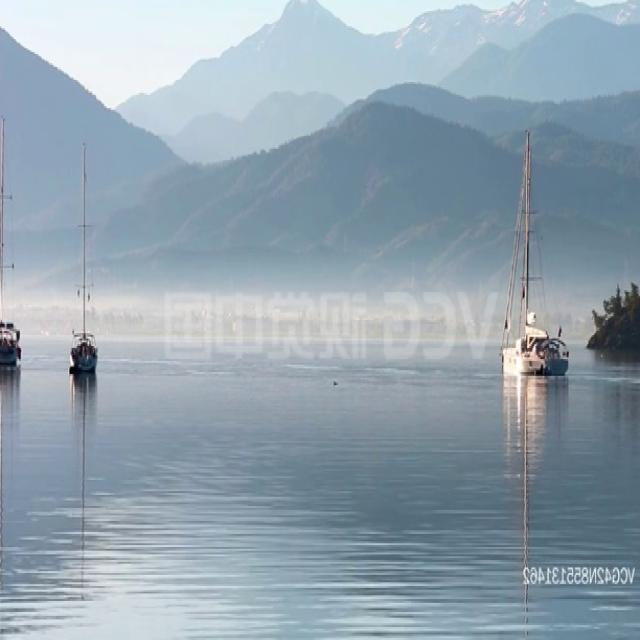sailboat: (497, 121, 567, 381), (65, 126, 100, 378), (0, 108, 22, 368)
